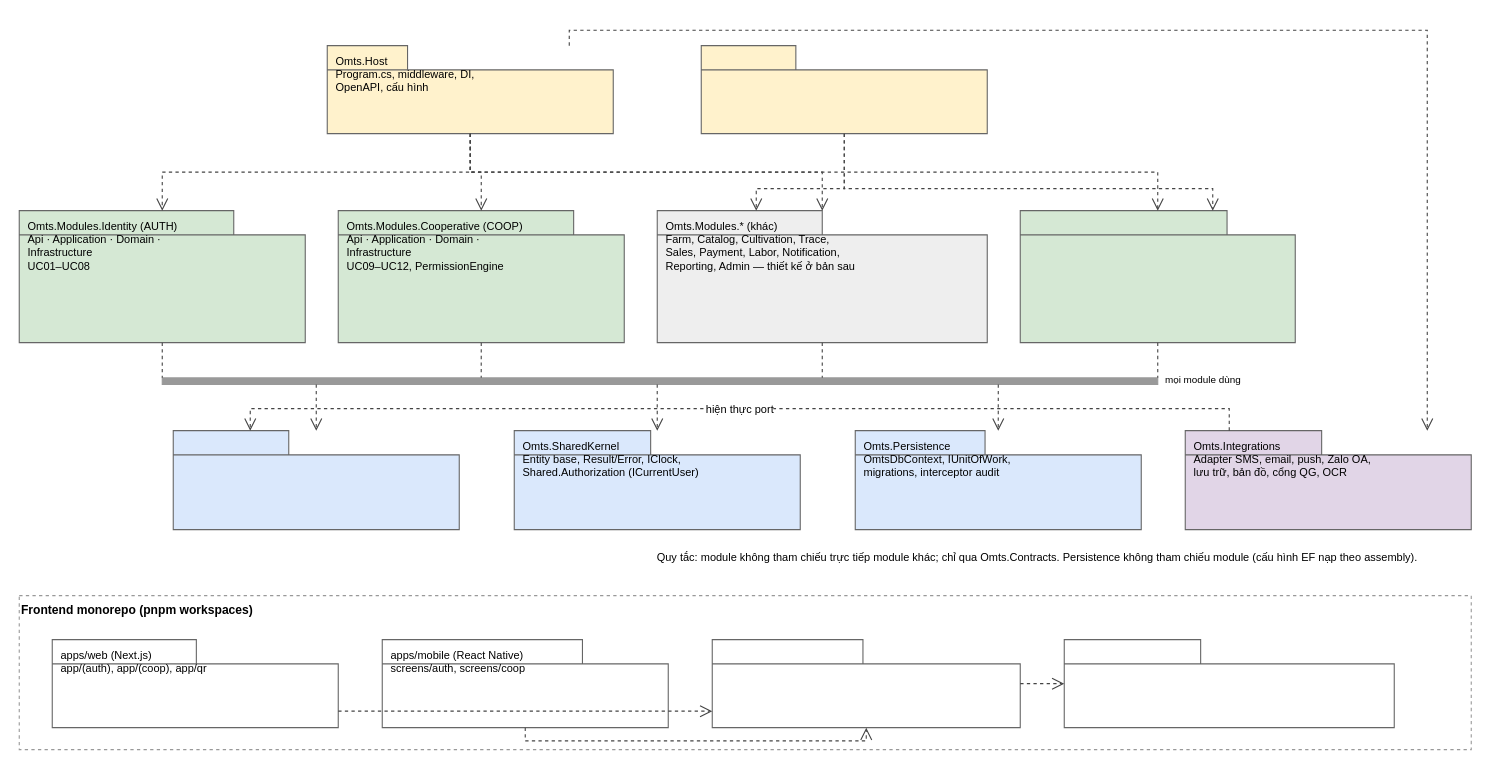
Some shapes in this 1491 by 772 pixel diagram are drawn without their labels. The centre of each missing label's shape, as x and y in pixels:
Omts.Contracts Interface + DTO giữa module, port tới dịch vụ ngoài: the point at 315,480
Omts.Modules.Platform (SYS) Status/StatusTransition, AuditTrail, Outbox: the point at 1157,276
Omts.Worker BackgroundService: JOB-01…07, Outbox dispatcher: the point at 843,89
packages/api-client Sinh từ OpenAPI; DTO TypeScript: the point at 865,683
packages/messages Danh mục MSG01…MSG69 (vi-VN): the point at 1228,683
